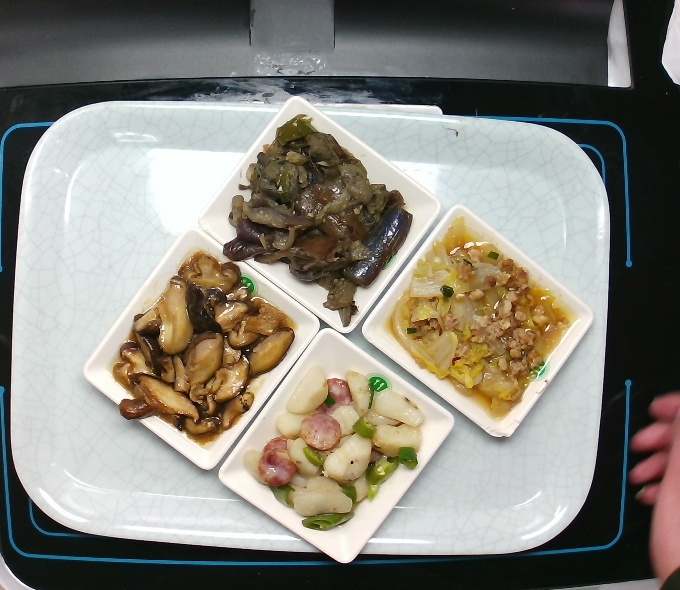wcq-MaTiGuo: (253, 360, 429, 530)
wcq-MoGu: (112, 257, 296, 440)
wcq-QieZi: (223, 116, 416, 319)
wcq-RouMoBaiCai: (403, 238, 551, 403)
